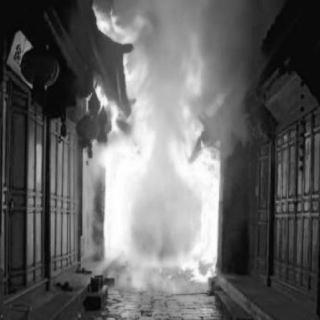Fire: (95, 7, 219, 271)
